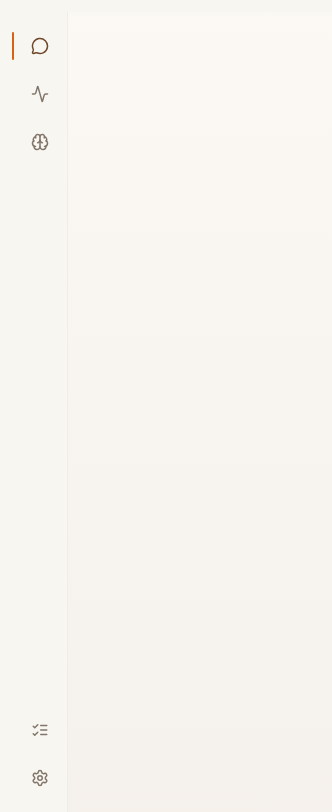
Test: sidebar navigation › does not restore a session whose create response arrives after a full clear starts
Click the button named "shell.conversation" at (40, 46), box [18,24,62,68]
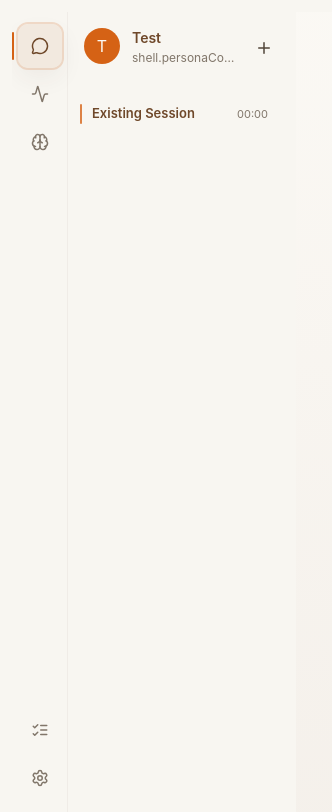
Click the button named "shell.newChat" at (264, 48), box [248,32,280,64]
(page scrolled)
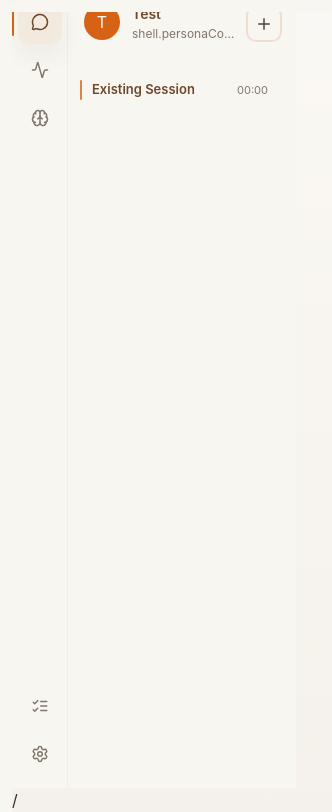
Expected: the text with test id "location" reads "/", [12,790,18,810]
